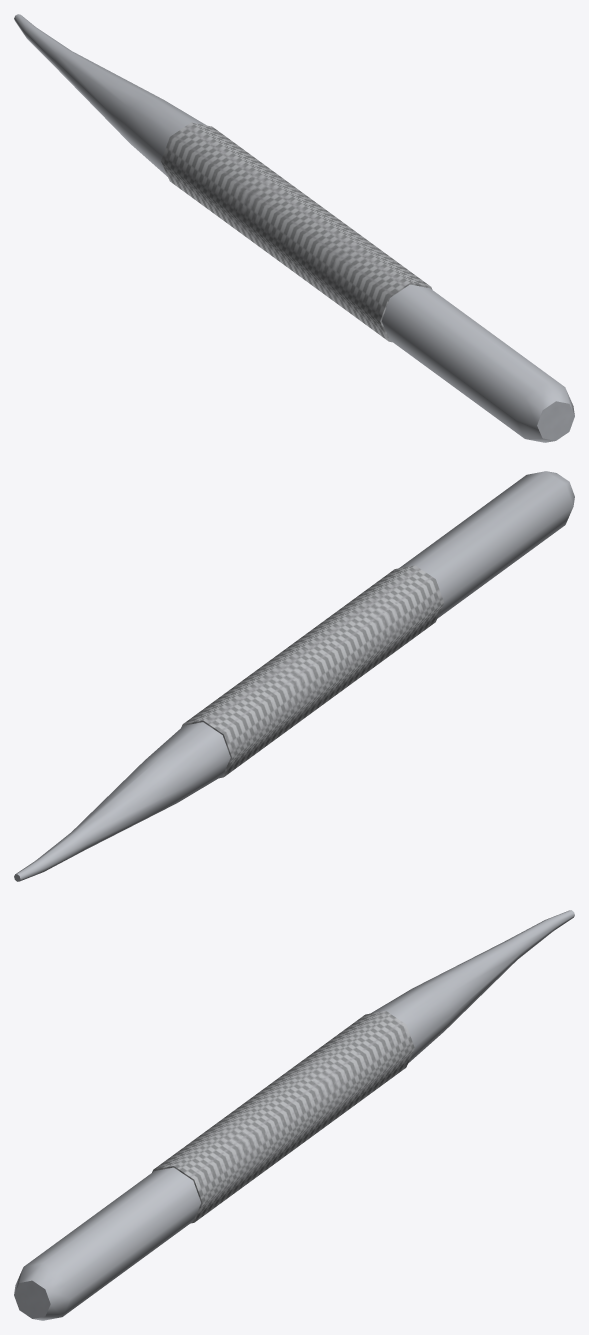
File: m1_micro_needle_holder.glb
3 views of the same model, one above another, from view 1: azimuth 30°, elevation 25°; view 2: azimuth 150°, elevation 25°; view 3: azimuth 330°, elevation 25° (orthographic). The views are drawn at different scales.
Visible parts, largest first — view 1: m1_micro_needle_holder; view 2: m1_micro_needle_holder; view 3: m1_micro_needle_holder.
Part boxes in pixels (box(x1,y1,x2,y2)): m1_micro_needle_holder: box(14, 14, 574, 442); m1_micro_needle_holder: box(14, 471, 574, 881); m1_micro_needle_holder: box(14, 910, 574, 1320).
Size of the model in its own units: 0.0095 by 0.0095 by 0.1501.
1 material, 1 textured.
